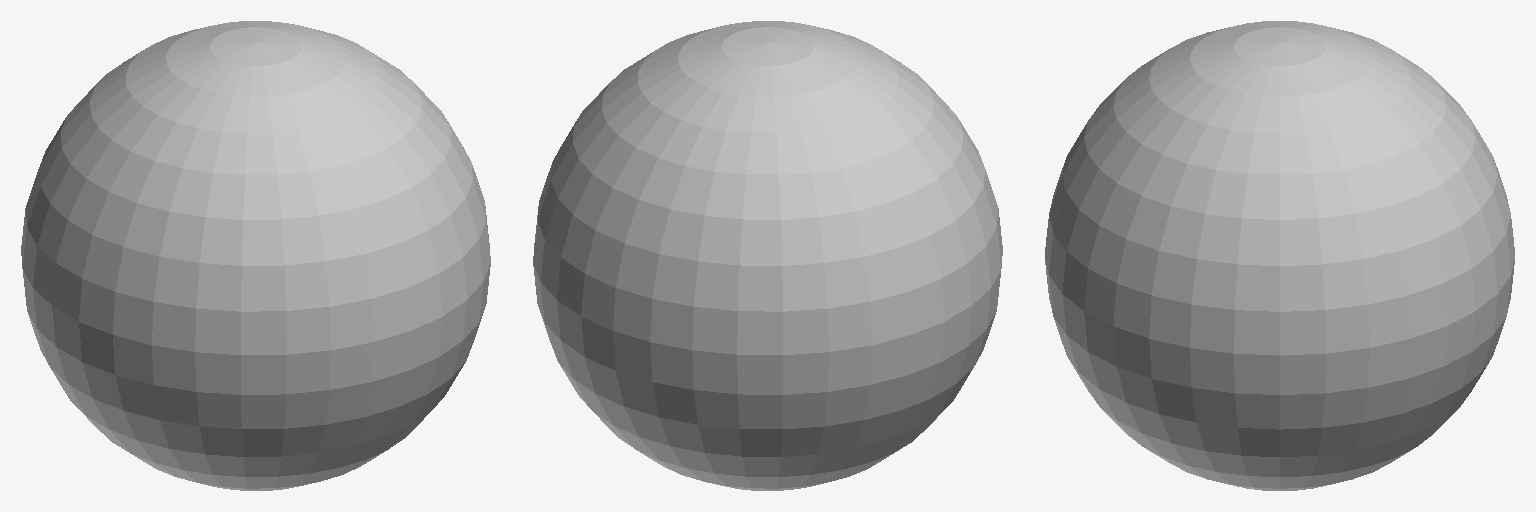
File: boll.obj
3 renders of one model, left to right at view 1: azimuth 30°, elevation 25°; view 2: azimuth 150°, elevation 25°; view 3: azimuth 270°, elevation 25°, orthographic.
Parts seen in each view (by area): view 1: 球.004; view 2: 球.004; view 3: 球.004.
Boxes of the visible parts, <box> form: 球.004: <box>21,21,490,490</box>; 球.004: <box>533,21,1002,490</box>; 球.004: <box>1045,21,1514,490</box>.
Size of the model in its own units: 2 by 2 by 2.